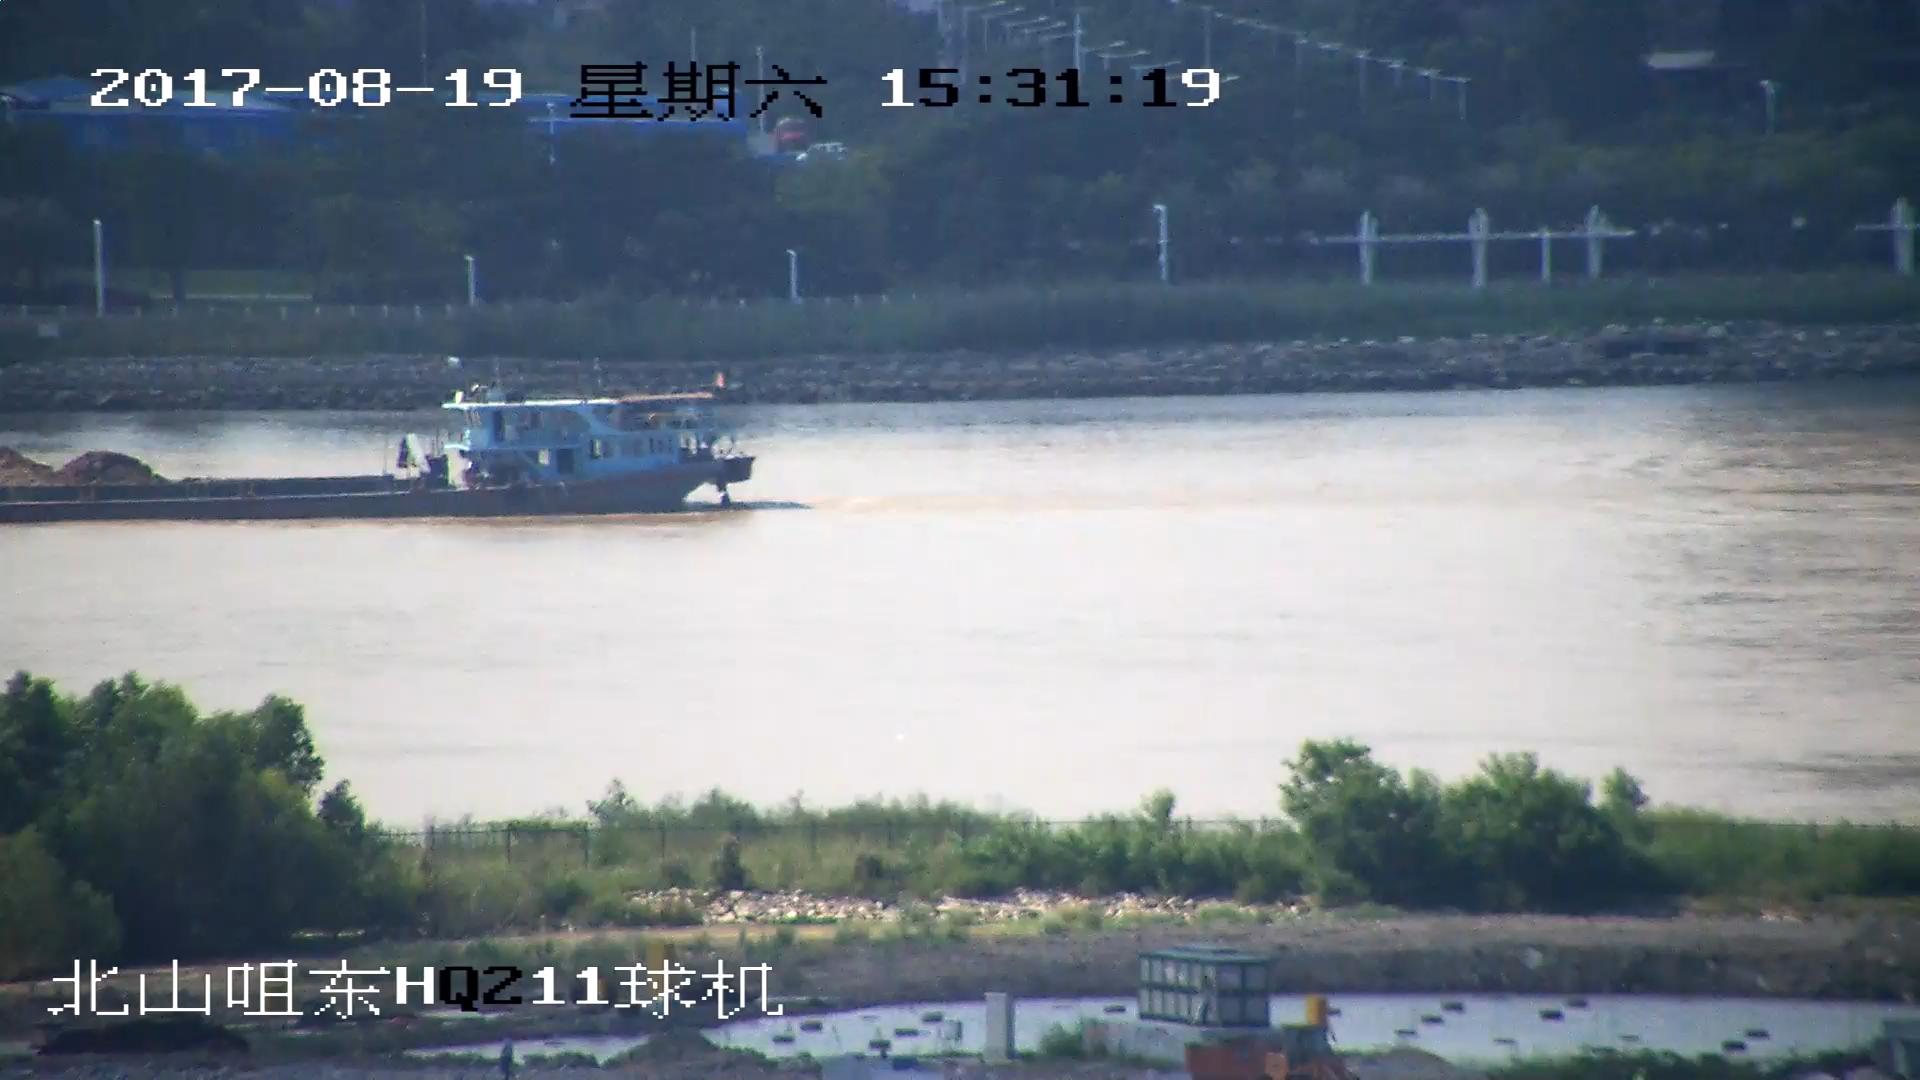ore carrier: (1, 381, 764, 522)
